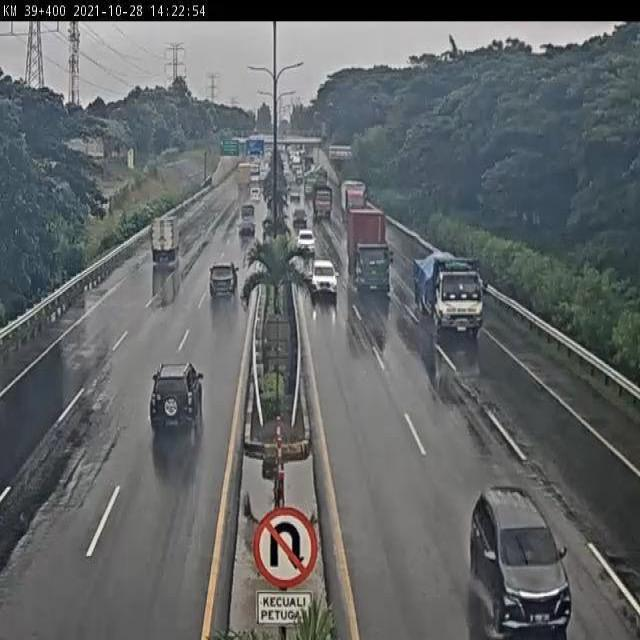truck: (414, 251, 488, 337), (348, 208, 396, 295), (150, 216, 183, 263)
